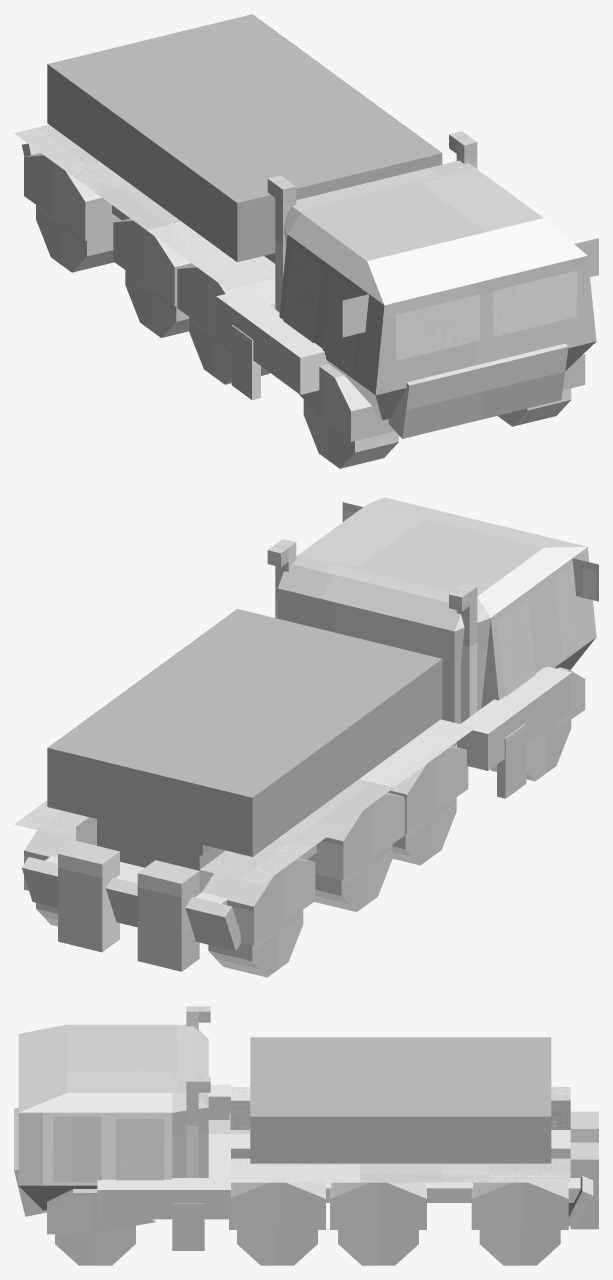
Rendered from eric_truck.obj.
3 renders of one model, top to bottom at view 1: azimuth 30°, elevation 25°; view 2: azimuth 150°, elevation 25°; view 3: azimuth 270°, elevation 25°, orthographic. The views are drawn at different scales.
Parts seen in each view (by area): view 1: cube40, cube76, cube72, cube18, cube33, cube6, cylinder63, cube2, cube3, cylinder62, cylinder70, cylinder61 (+12 smaller); view 2: cube40, cube76, cube33, cube59, cube60, cube22, cube6, cube21, cylinder63, cube20, cube9999, cylinder62 (+15 smaller); view 3: cube40, cube76, cube32, cube72, cube11, cylinder64, cylinder65, cylinder66, cube12, cube58, cube57, cylinder69 (+17 smaller).
Boxes of the visible parts, left/top/right/bottom form: cube40: left=47, top=14, right=442, bottom=262; cube76: left=287, top=169, right=587, bottom=305; cube72: left=279, top=234, right=596, bottom=395; cube18: left=388, top=343, right=568, bottom=438; cube33: left=14, top=124, right=275, bottom=289; cube6: left=216, top=289, right=328, bottom=394; cylinder63: left=24, top=153, right=121, bottom=240; cube2: left=493, top=270, right=577, bottom=336; cube3: left=396, top=294, right=479, bottom=360; cylinder62: left=113, top=218, right=193, bottom=306; cylinder70: left=299, top=364, right=394, bottom=441; cylinder61: left=177, top=265, right=275, bottom=347; cube40: left=47, top=609, right=442, bottom=856; cube76: left=301, top=497, right=587, bottom=617; cube33: left=200, top=719, right=475, bottom=884; cube59: left=277, top=588, right=490, bottom=746; cube60: left=278, top=553, right=490, bottom=631; cube22: left=137, top=860, right=199, bottom=971; cube6: left=457, top=666, right=572, bottom=770; cube21: left=58, top=841, right=119, bottom=952; cylinder63: left=202, top=858, right=315, bottom=945; cube20: left=22, top=857, right=240, bottom=951; cube9999: left=119, top=772, right=178, bottom=863; cylinder62: left=307, top=792, right=404, bottom=880; cube40: left=250, top=1037, right=551, bottom=1163; cube76: left=18, top=1024, right=172, bottom=1112; cube32: left=231, top=1158, right=570, bottom=1182; cube72: left=18, top=1112, right=172, bottom=1185; cube11: left=97, top=1178, right=230, bottom=1219; cylinder64: left=471, top=1182, right=568, bottom=1229; cylinder65: left=330, top=1182, right=426, bottom=1229; cylinder66: left=229, top=1182, right=325, bottom=1229; cube12: left=208, top=1120, right=580, bottom=1202; cube58: left=53, top=1116, right=101, bottom=1182; cube57: left=115, top=1118, right=164, bottom=1180; cylinder69: left=47, top=1189, right=155, bottom=1234.
Bounding box in the file's own units: 4.84 × 3.83 × 11.3.
